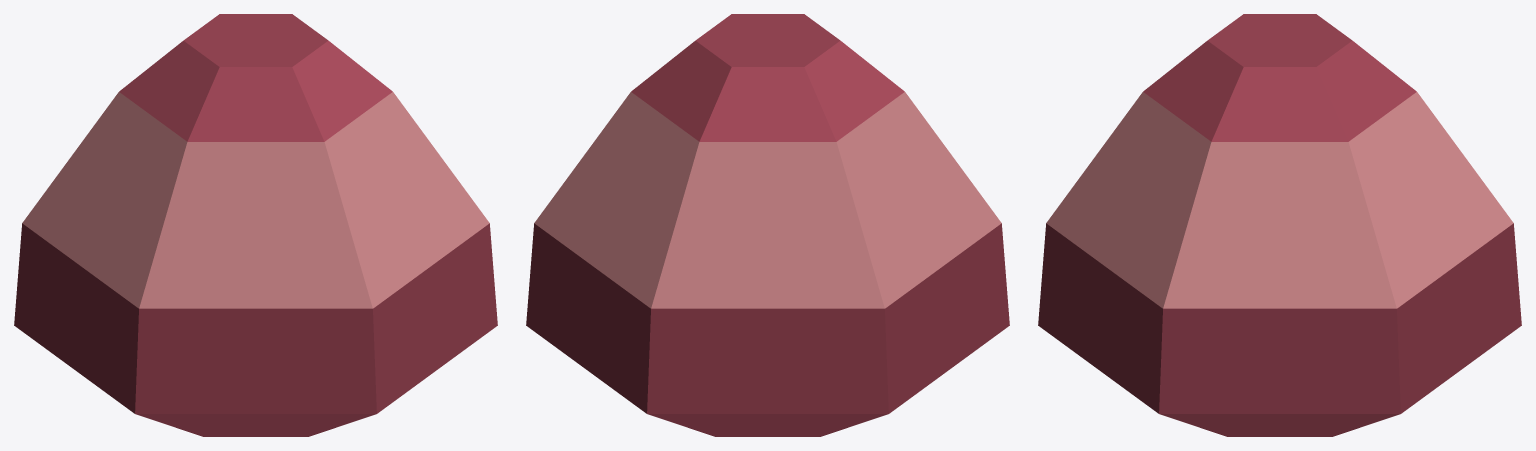
The model's file is item_crystal_ruby.glb.
The picture shows the model from 3 angles, left to right: view 1: azimuth 30°, elevation 25°; view 2: azimuth 150°, elevation 25°; view 3: azimuth 270°, elevation 25°; orthographic projection.
Visible parts, largest first — view 1: item_crystal_ruby; view 2: item_crystal_ruby; view 3: item_crystal_ruby.
Part boxes in pixels (x1,y1,x2,y2): item_crystal_ruby: (14, 14, 497, 436); item_crystal_ruby: (526, 14, 1009, 436); item_crystal_ruby: (1038, 14, 1521, 436).
Size of the model in its own units: 0.2598 by 0.245 by 0.3.
